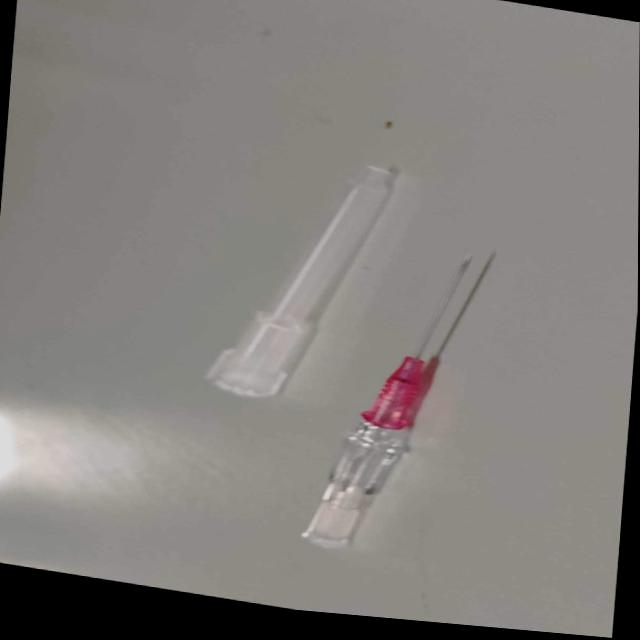Infectious: (205, 162, 401, 398)
Pathological: (3, 1, 638, 635)
Sharps: (301, 249, 498, 548)
